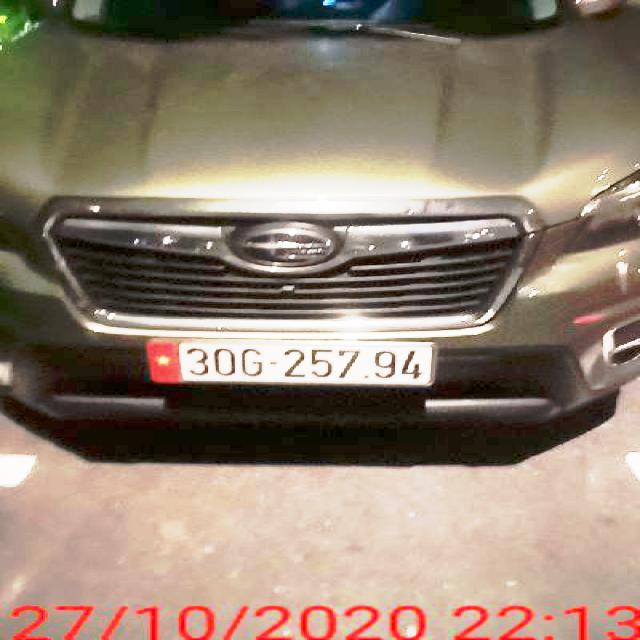license_plate: (140, 339, 435, 386)
